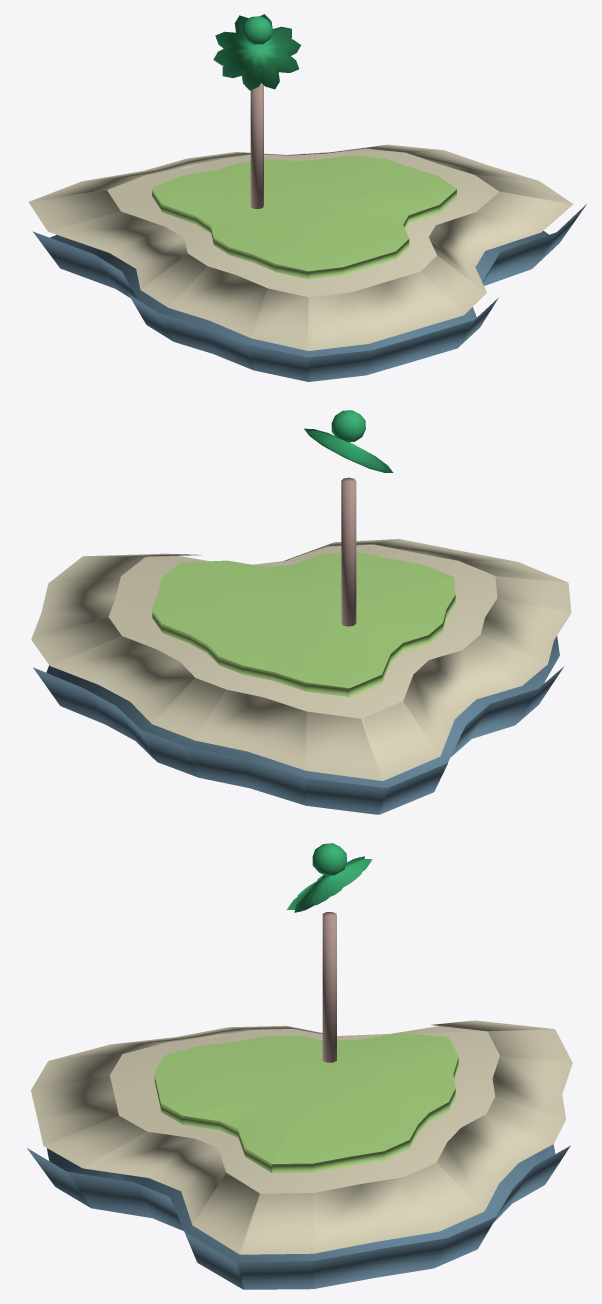
File: terrain_island_14.glb
The picture shows the model from 3 angles, top to bottom: view 1: azimuth 30°, elevation 25°; view 2: azimuth 150°, elevation 25°; view 3: azimuth 270°, elevation 25°; orthographic projection. The views are drawn at different scales.
Parts seen in each view (by area): view 1: island_sand, island_grass_dome, island_base, island_grass_base, palm_trunk, palm_leaf2, palm_leaf0, palm_leaf3, palm_cap, palm_leaf4, palm_leaf1; view 2: island_sand, island_grass_dome, island_base, island_grass_base, palm_trunk, palm_cap; view 3: island_sand, island_grass_dome, island_base, island_grass_base, palm_trunk, palm_cap.
Part boxes in pixels (x1,y1,x2,y2): island_sand: [28, 144, 572, 350]; island_grass_dome: [152, 155, 456, 271]; island_base: [32, 204, 586, 381]; island_grass_base: [152, 188, 456, 279]; palm_trunk: [250, 83, 263, 209]; palm_leaf2: [215, 31, 298, 72]; palm_leaf0: [213, 39, 300, 65]; palm_leaf3: [222, 26, 291, 77]; palm_cap: [241, 16, 272, 44]; palm_leaf4: [234, 15, 279, 89]; palm_leaf1: [242, 14, 272, 90]; island_sand: [31, 539, 571, 780]; island_grass_dome: [152, 552, 455, 688]; island_base: [33, 636, 563, 814]; island_grass_base: [152, 595, 455, 697]; palm_trunk: [341, 477, 356, 626]; palm_cap: [331, 410, 365, 442]; island_sand: [31, 1020, 572, 1254]; island_grass_dome: [154, 1032, 458, 1163]; island_base: [27, 1144, 570, 1289]; island_grass_base: [154, 1058, 458, 1173]; palm_trunk: [322, 912, 336, 1062]; palm_cap: [312, 843, 346, 876].
Size of the model in its own units: 76.84 by 43.09 by 75.25.
